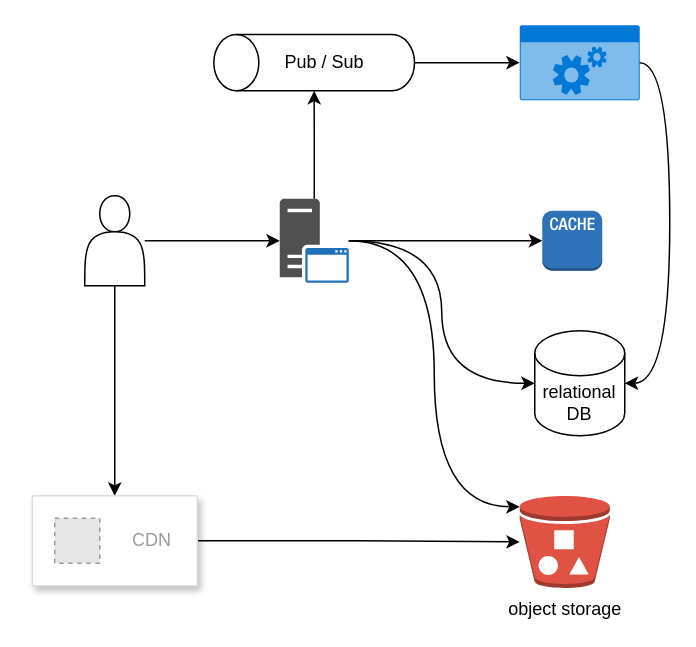
Some shapes in this 696 by 647 pixel diagram are drawn without their labels. Grey dashed boxes stand in for pictures. The centre of each missing label's shape, as x and y in pixels:
"app server" goes at (313,240).
"Services" goes at (579,61).
